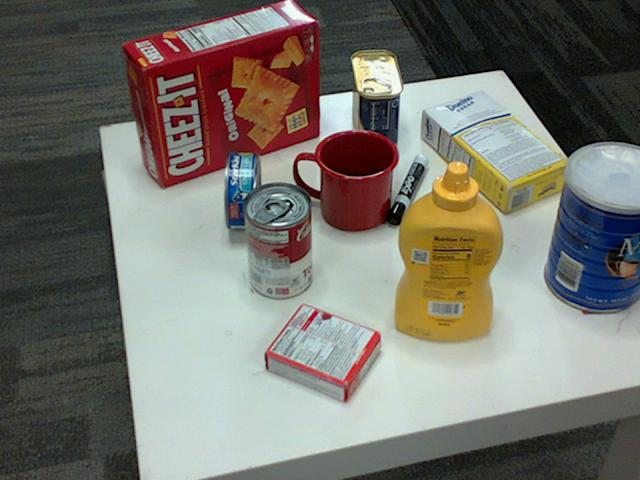cracker_box: (122, 0, 319, 185)
gelatin_box: (262, 303, 378, 404)
large_marker: (386, 157, 428, 224)
master_chef_can: (545, 142, 639, 313)
mug: (294, 127, 399, 230)
mustard_bottle: (393, 162, 503, 340)
potted_meat_can: (348, 51, 401, 150)
sugar_box: (421, 91, 573, 213)
tomato_soup_can: (243, 182, 312, 299)
tuna_fish_can: (222, 151, 261, 229)
